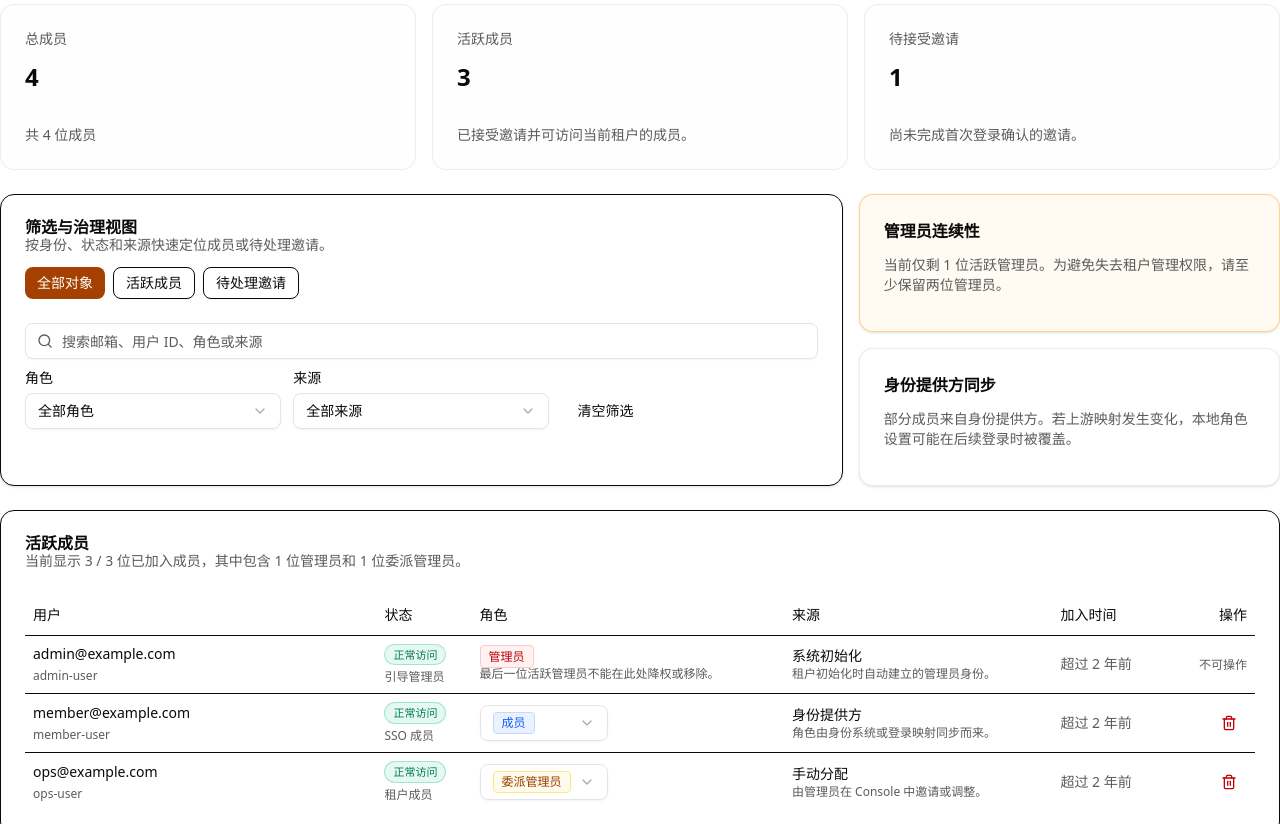
Test: MembersPage › filters the page down to pending invitations
The image size is (1280, 824).
Check: the text "member@example.com" is shown, box [33, 703, 190, 723]
What coordinates should you click on to do the following:
click the button "待处理邀请"
I would click on:
 (251, 283)
Its box is [203, 267, 299, 299].
(page scrolled)
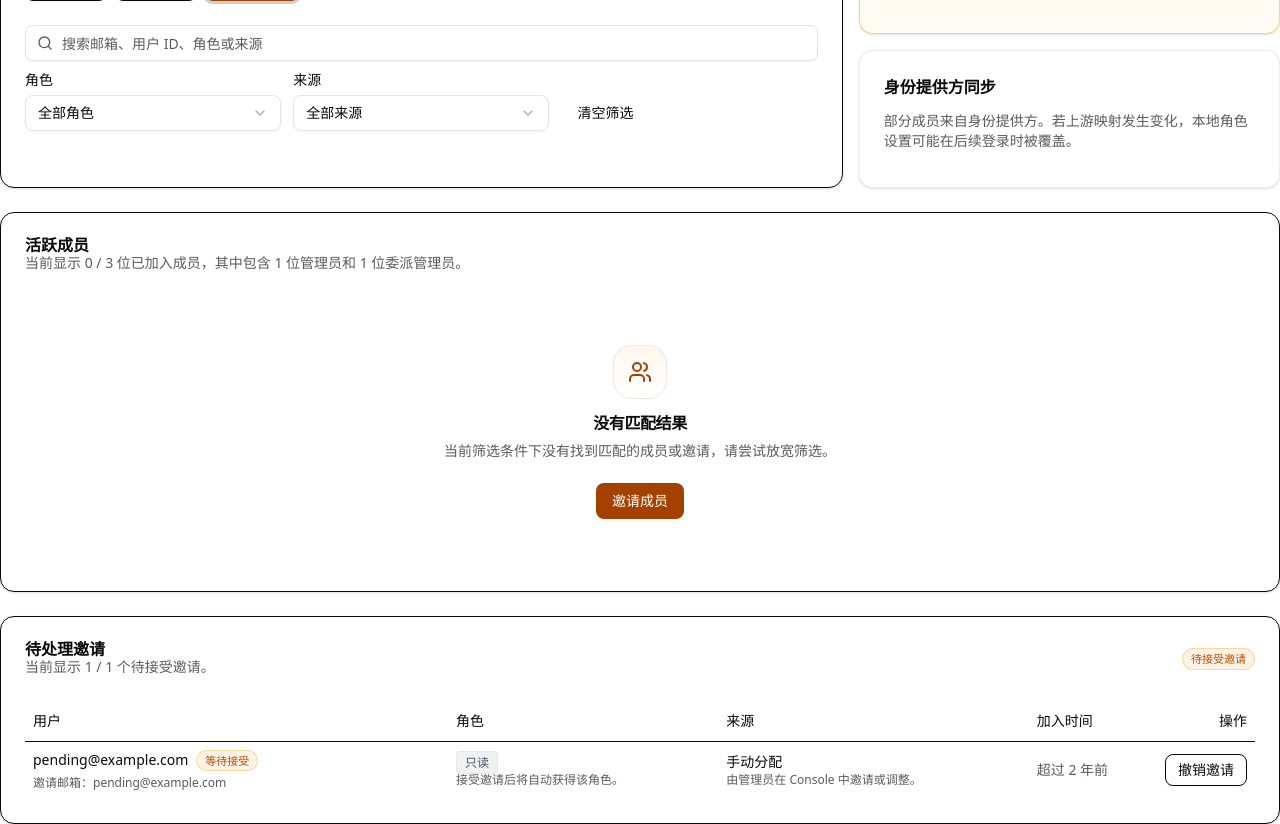
Check: the text "pending@example.com" is shown, box [33, 750, 188, 770]
Check: the text "member@example.com" is gone
